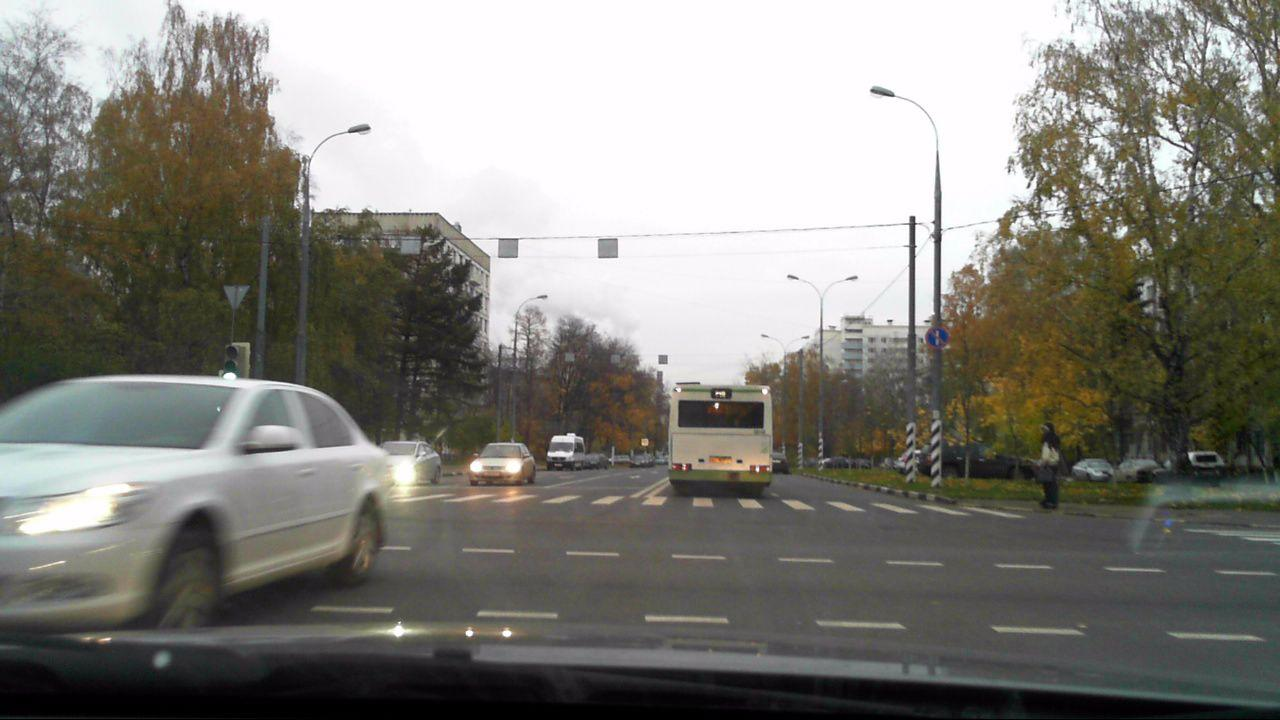3_29: (925, 326, 949, 348)
